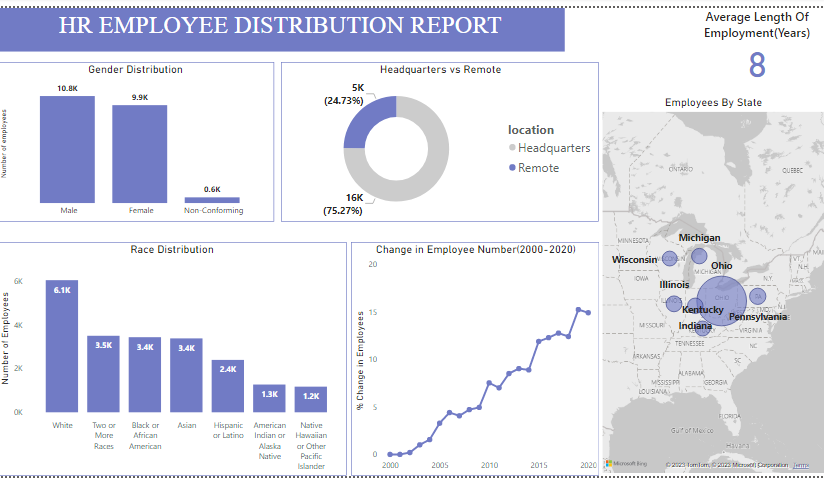

Layout of this report page (visuals, bound fields, positions):
{"tool":"powerbi","page":{"name":"Page 1","canvas":[1280,720],"ordinal":0},"visuals":[{"type":"textbox","box":[0,0,875.2,67.2],"z":0},{"type":"card","title":"Average Length Of Employment(Years)","fields":{"Values":["Sum(avg_length_employment.avg_length_employment)"]},"box":[1061.3,0,218.9,112.3],"z":1000},{"type":"columnChart","title":"Gender Distribution","fields":{"Y":["Sum(gender.count)"],"Category":["gender.gender"]},"box":[0,83.5,427.7,246.2],"z":2000},{"type":"donutChart","title":"Headquarters vs Remote","fields":{"Category":["location.location"],"Y":["Sum(location.count)"]},"box":[438.5,83.1,489.2,246.2],"z":3000},{"type":"lineChart","title":"Change in Employee Number(2000-2020)","fields":{"Category":["employee_change.year"],"Y":["Sum(employee_change.net_change_percent)"]},"box":[545.8,360,381.6,360],"z":4000},{"type":"map","title":"Employees By State","fields":{"Category":["location_state.location_state"],"Size":["Sum(location_state.count)"]},"box":[927.4,135.4,352.8,584.6],"z":5000},{"type":"clusteredColumnChart","title":"Race Distribution","fields":{"Category":["race.race"],"Y":["Sum(race.count)"]},"box":[0,360,540,360],"z":6000}]}

Visuals, with their boxes on the page's 1280x720 design canvas (x1, y1, x2, y2). These are canvas units, not pixel positions in the 824x478 screenshot, which may show the page scaled, cropped or inside an application window:
textbox: <bbox>0, 0, 875, 67</bbox>
"Average Length Of Employment(Years)" card: <bbox>1061, 0, 1280, 112</bbox>
"Gender Distribution" columnChart: <bbox>0, 84, 428, 330</bbox>
"Headquarters vs Remote" donutChart: <bbox>438, 83, 928, 329</bbox>
"Change in Employee Number(2000-2020)" lineChart: <bbox>546, 360, 927, 720</bbox>
"Employees By State" map: <bbox>927, 135, 1280, 720</bbox>
"Race Distribution" clusteredColumnChart: <bbox>0, 360, 540, 720</bbox>
